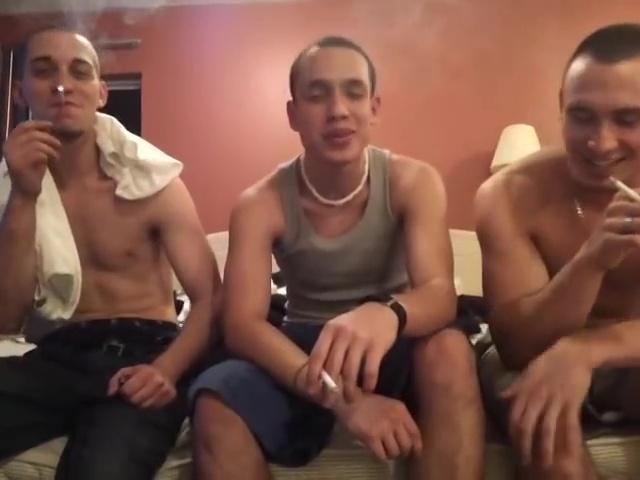cigarette: (608, 175, 640, 207), (321, 369, 339, 397), (56, 83, 69, 108)
